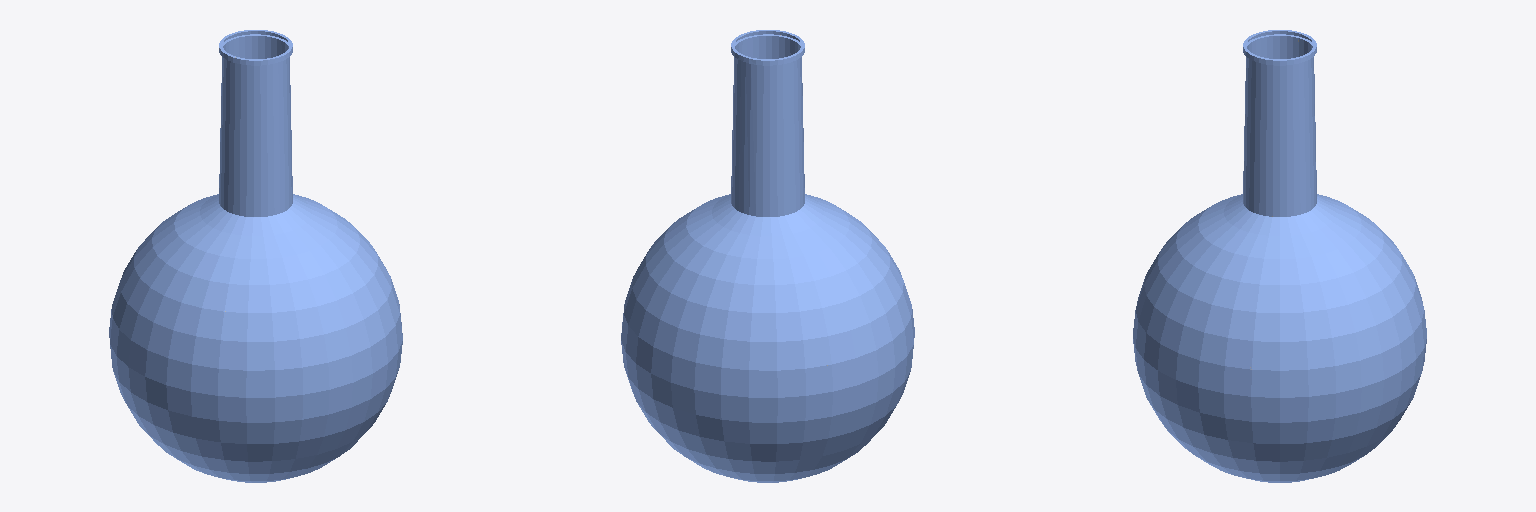
The picture shows the model from 3 angles: view 1: azimuth 30°, elevation 25°; view 2: azimuth 150°, elevation 25°; view 3: azimuth 270°, elevation 25°; orthographic projection.
Parts seen in each view (by area): view 1: matraz_esferico; view 2: matraz_esferico; view 3: matraz_esferico.
Boxes of the visible parts, <box> form: matraz_esferico: <box>109,30,402,482</box>; matraz_esferico: <box>621,30,914,482</box>; matraz_esferico: <box>1133,30,1426,482</box>.
Bounding box in the file's own units: 0.5 × 0.7894 × 0.5.
Materials: 1 (1 with a texture image).